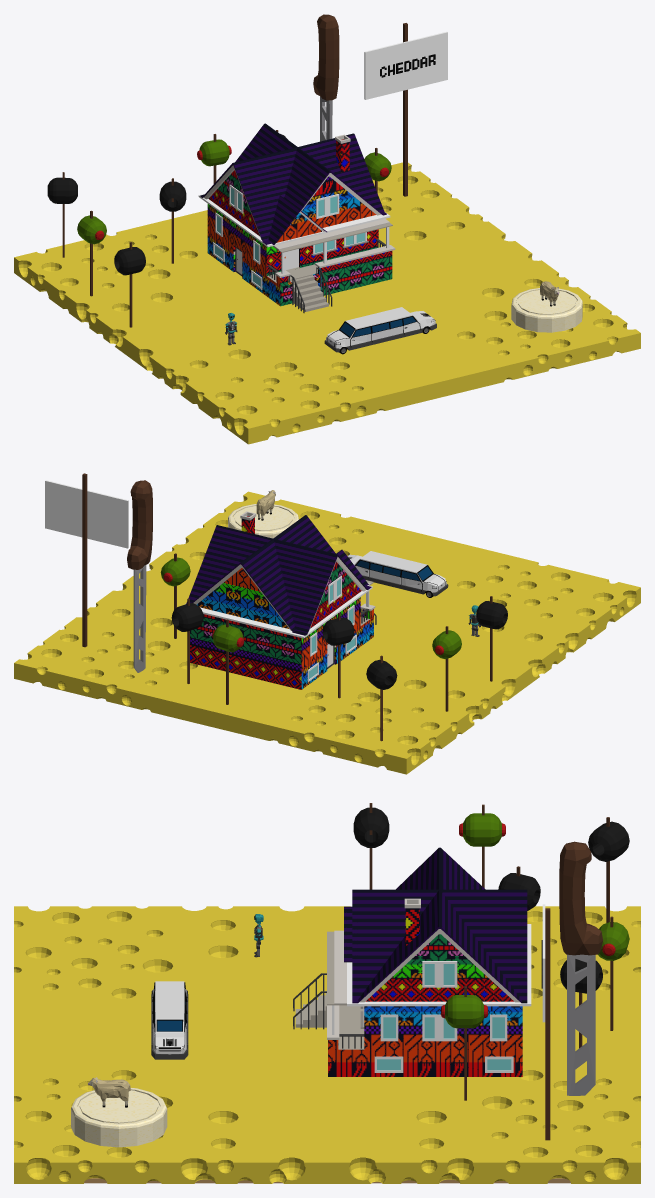
3 renders of one model, top to bottom at view 1: azimuth 30°, elevation 25°; view 2: azimuth 150°, elevation 25°; view 3: azimuth 270°, elevation 25°, orthographic. The views are drawn at different scales.
Parts seen in each view (by area): view 1: Cube.022, Cube.966, Cube.023, VEHICLES_LIMOUSINE, Cylinder.016, Cube.024, Sphere.017, Sphere.016, Sphere.020, Sphere.018, Sphere.022, Sphere.019; view 2: Cube.022, Cube.966, Cube.023, Cube.024, VEHICLES_LIMOUSINE, Cylinder.016, Sphere.017, Sphere.020, Sphere.021, Sphere.016, Sphere.018, Sphere.022 (+1 smaller); view 3: Cube.022, Cube.966, Cube.024, Cylinder.016, VEHICLES_LIMOUSINE, Cube.023, Sphere.019, Sphere.016, Sphere.018, Sphere.017, Sphere.022, Sphere.020 (+3 smaller).
Boxes of the visible parts, bbox=[...] form: Cube.022: bbox=[14, 162, 640, 444]; Cube.966: bbox=[198, 123, 395, 313]; Cube.023: bbox=[364, 23, 447, 196]; VEHICLES_LIMOUSINE: bbox=[324, 307, 436, 354]; Cylinder.016: bbox=[511, 288, 582, 332]; Cube.024: bbox=[313, 14, 339, 141]; Sphere.017: bbox=[114, 242, 145, 327]; Sphere.016: bbox=[47, 172, 77, 257]; Sphere.020: bbox=[159, 178, 186, 263]; Sphere.018: bbox=[77, 210, 106, 296]; Sphere.022: bbox=[197, 134, 231, 183]; Sphere.019: bbox=[364, 148, 391, 192]; Cube.022: bbox=[14, 491, 640, 774]; Cube.966: bbox=[185, 511, 376, 689]; Cube.023: bbox=[45, 473, 128, 647]; Cube.024: bbox=[127, 480, 152, 672]; VEHICLES_LIMOUSINE: bbox=[347, 551, 448, 597]; Cylinder.016: bbox=[228, 504, 298, 538]; Sphere.017: bbox=[476, 596, 507, 681]; Sphere.020: bbox=[322, 612, 354, 698]; Sphere.021: bbox=[171, 598, 203, 683]; Sphere.016: bbox=[366, 655, 397, 741]; Sphere.018: bbox=[432, 626, 461, 711]; Sphere.022: bbox=[212, 619, 244, 704]; Cube.022: bbox=[14, 906, 640, 1183]; Cube.966: bbox=[293, 847, 531, 1076]; Cube.024: bbox=[559, 841, 602, 1095]; Cylinder.016: bbox=[71, 1087, 167, 1147]; VEHICLES_LIMOUSINE: bbox=[151, 981, 188, 1059]; Cube.023: bbox=[541, 904, 550, 1140]; Sphere.019: bbox=[441, 986, 487, 1100]; Sphere.016: bbox=[588, 817, 629, 922]; Sphere.018: bbox=[459, 804, 505, 887]; Sphere.017: bbox=[353, 803, 389, 889]; Sphere.022: bbox=[598, 916, 629, 1030]; Sphere.020: bbox=[498, 866, 540, 910].
Bounding box in the file's own units: 3917 × 1957 × 4000.
Materials: 42 (8 with a texture image).
